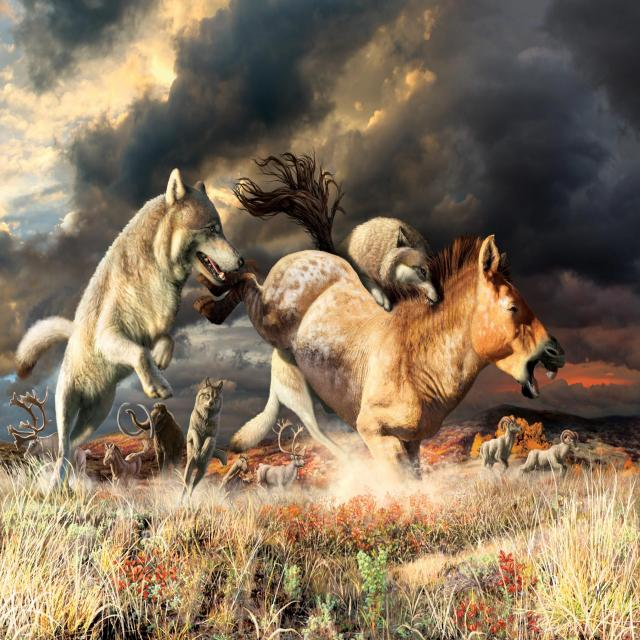Wolf: (234, 232, 564, 461), (13, 160, 242, 483), (234, 144, 450, 300), (177, 368, 230, 499)
